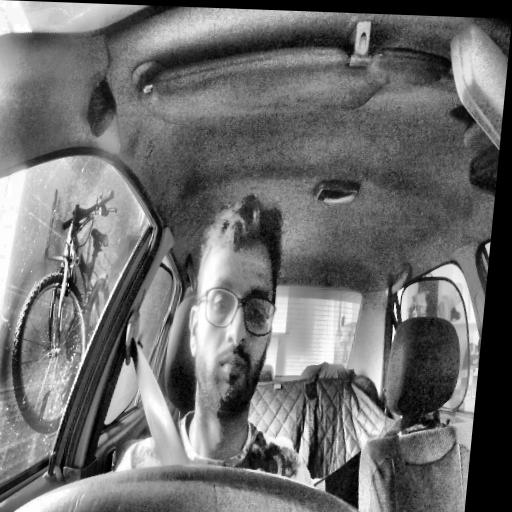awake: (180, 191, 289, 424)
